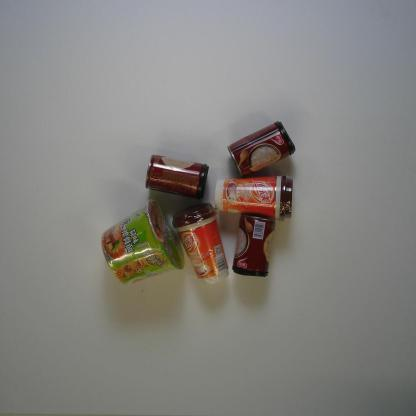Canned Food: (227, 121, 296, 176), (144, 154, 209, 200), (232, 213, 277, 278)
Instant Drink: (171, 202, 230, 285), (214, 173, 293, 222)
Instant Noodles: (100, 200, 186, 286)
